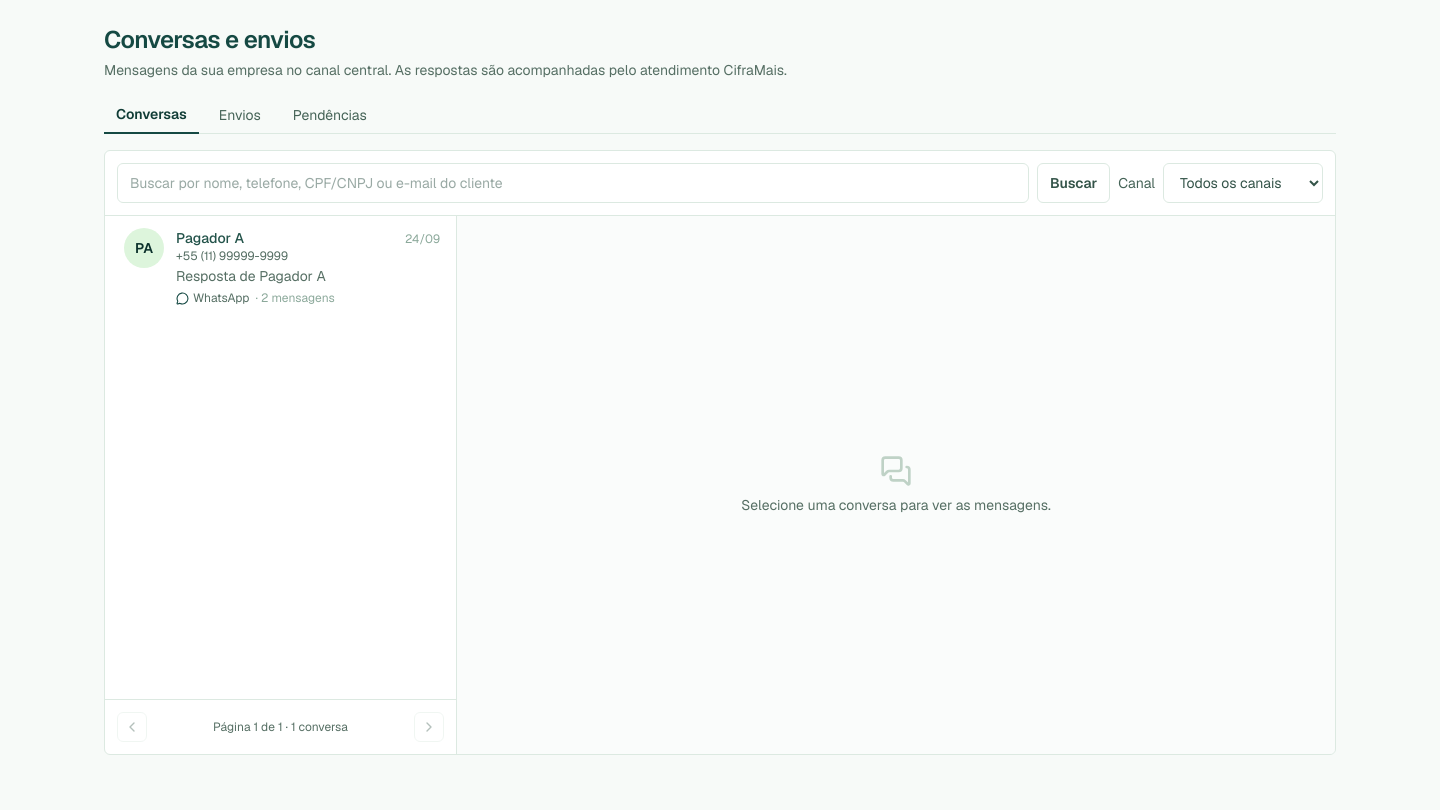
Test: Company conversations (read-only) › shows its messages with context and quotes, without any send control
Click the button "Pagador A" at x=280, y=267, box [105,216,456,318]
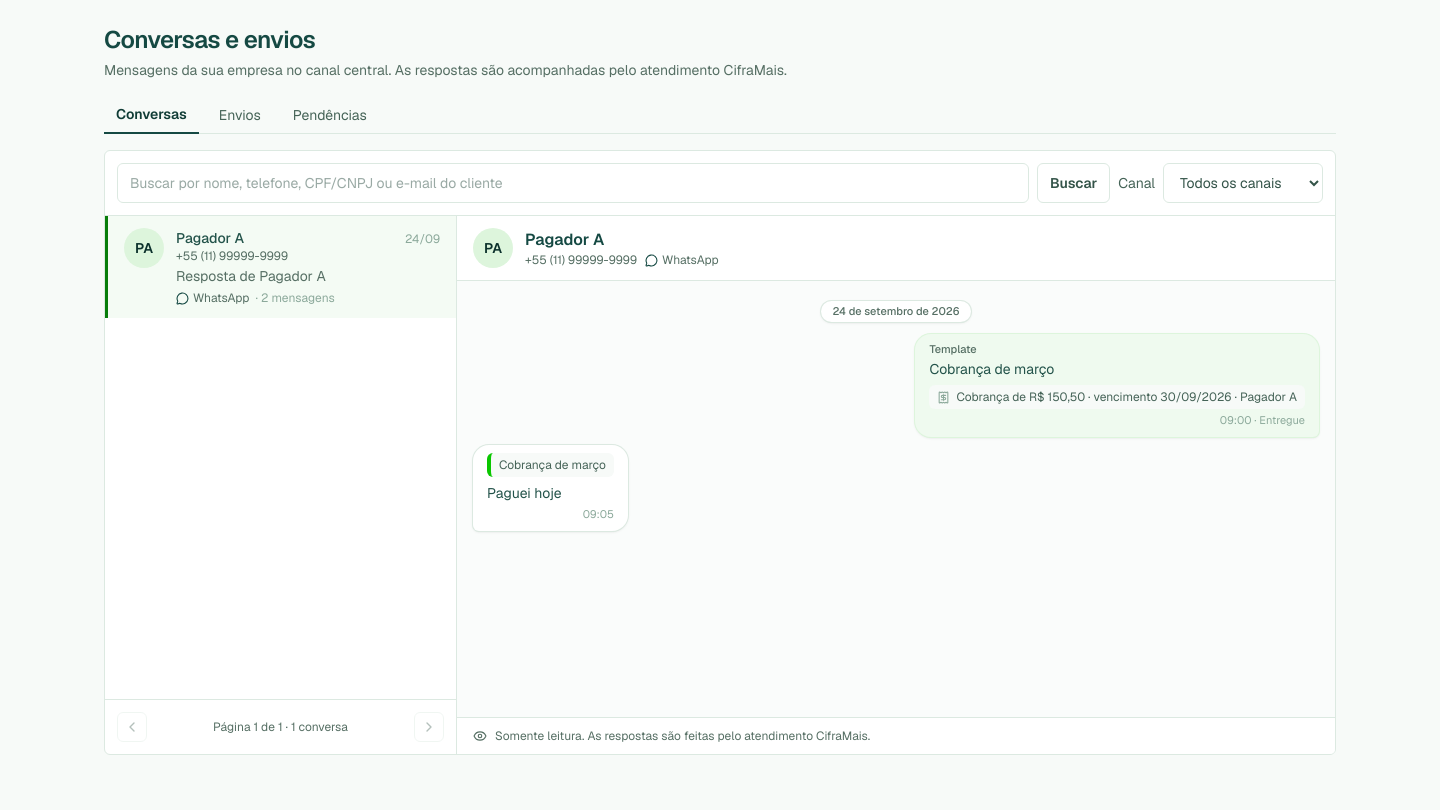
Now the text "Paguei hoje" is shown, box [487,484,562,502]
Now the text "Cobrança de março" is shown 2 times, box [930,360,1054,378]; [487,453,614,477]
Now the text "Cobrança de R$ 150,50 · vencimento 30/09/2026 · Pagador A" is shown, box [956,389,1297,405]
